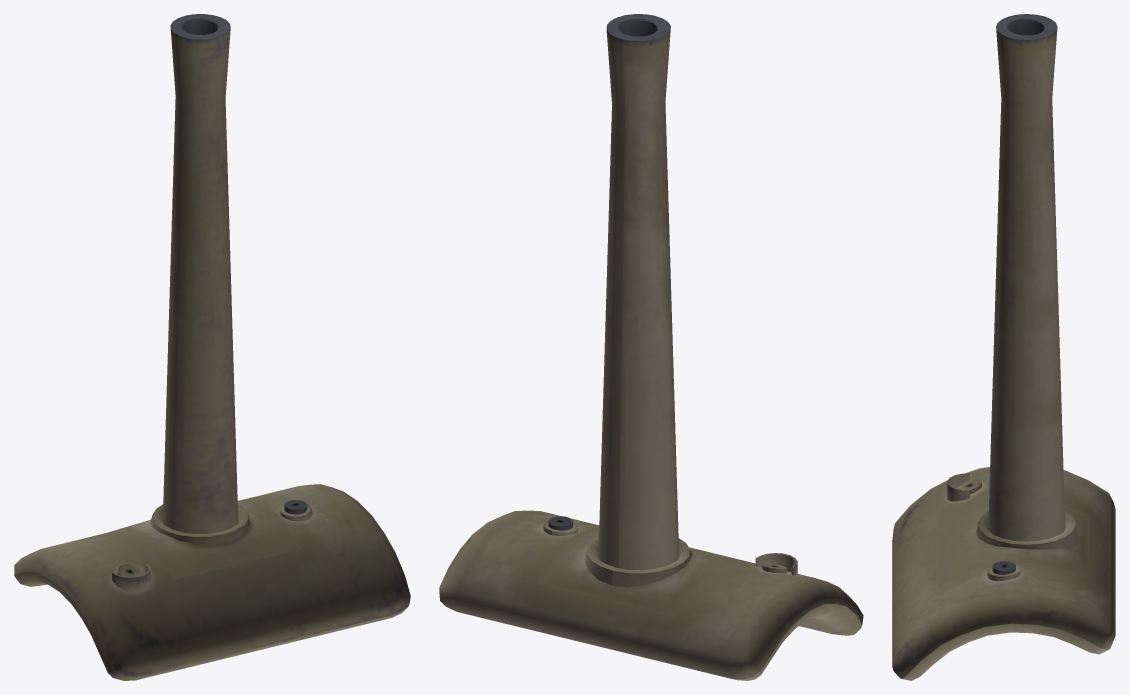
File: Gun_05.glb
The picture shows the model from 3 angles, left to right: view 1: azimuth 30°, elevation 25°; view 2: azimuth 150°, elevation 25°; view 3: azimuth 270°, elevation 25°; orthographic projection. The views are drawn at different scales.
Parts seen in each view (by area): view 1: set_0_group_0; view 2: set_0_group_0; view 3: set_0_group_0.
Boxes of the visible parts, x1,y1,x2,y2 form: set_0_group_0: (14, 14, 410, 680); set_0_group_0: (439, 14, 863, 680); set_0_group_0: (892, 14, 1115, 680).
Size of the model in its own units: 0.7343 by 1.33 by 0.4595.
1 material, 1 textured.
